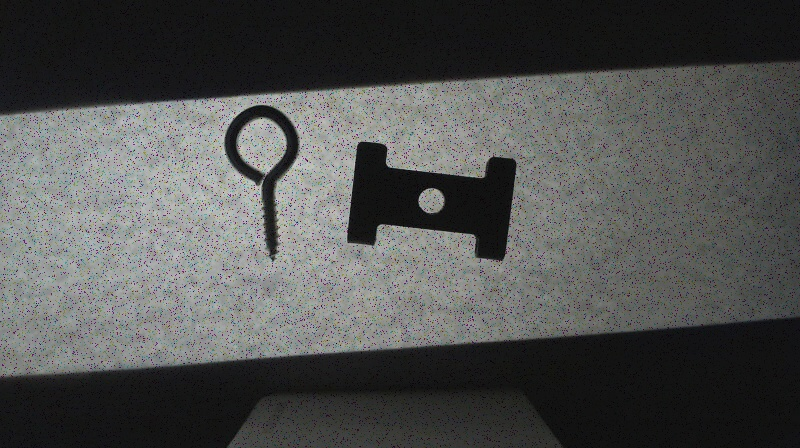O001: (222, 104, 302, 264)
O002: (348, 140, 516, 260)
